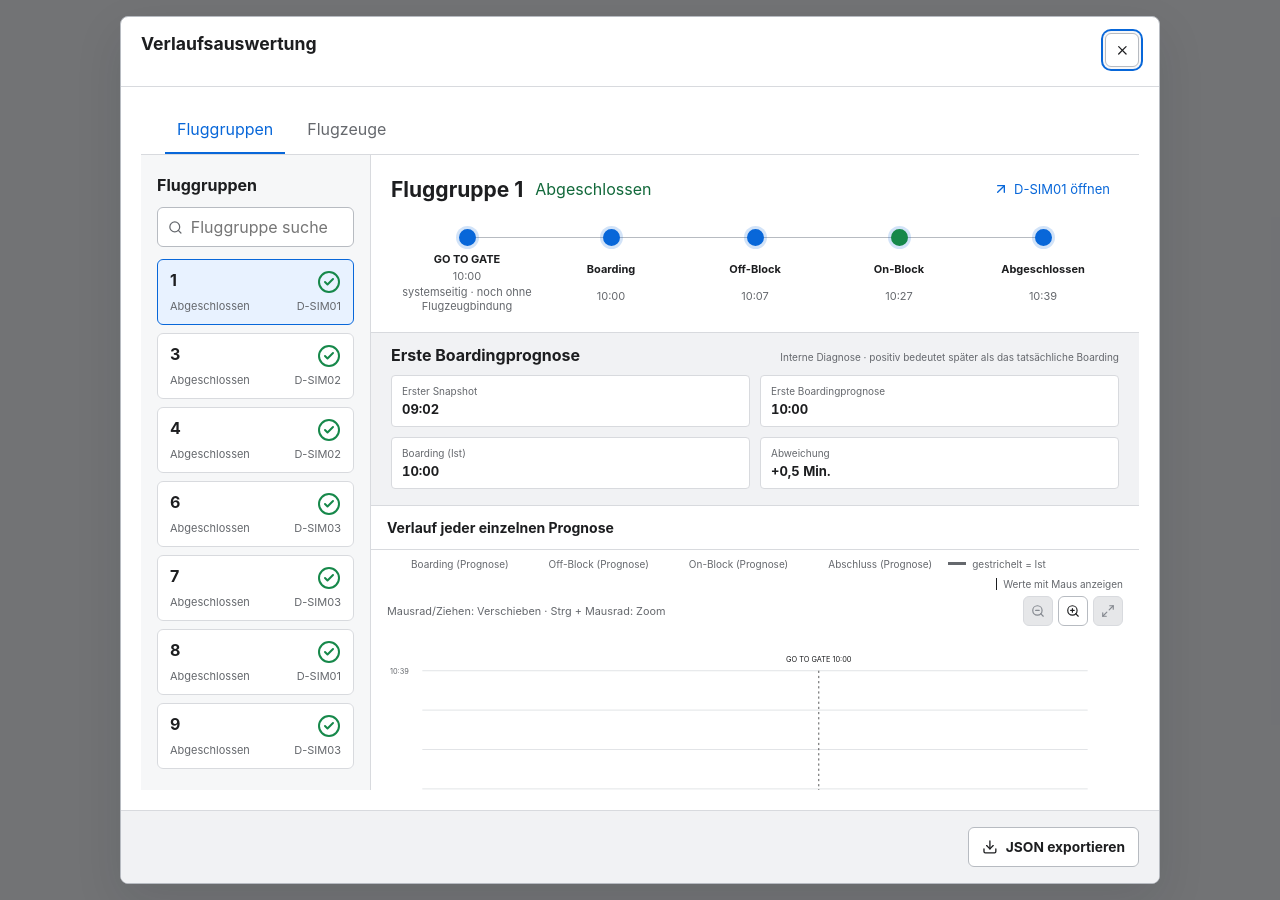
it: simulation history dialog › shows realized group milestones and filters the group rail
The width and height of the screenshot is (1280, 900).
Expected: the text "Erster Snapshot" is shown, [402, 384, 477, 396]
Expected: the text "Erste Boardingprognose" is shown, [771, 384, 885, 396]
In the search field with placeholder "Fluggruppe suchen": (267, 227) [191, 209, 343, 245], type "does-not-exist"
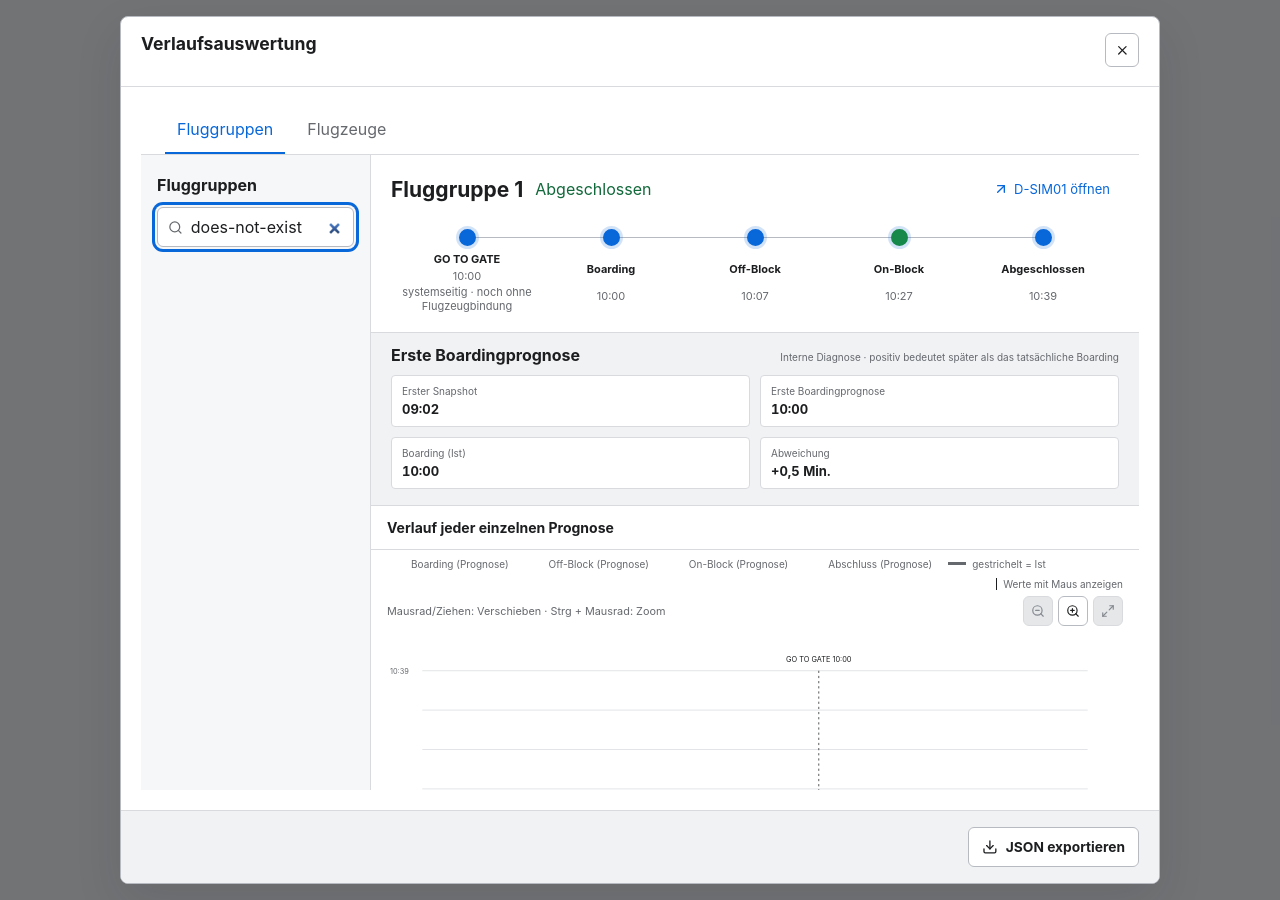
Now no the button "1 Abgeschlossen D-SIM01" are shown
